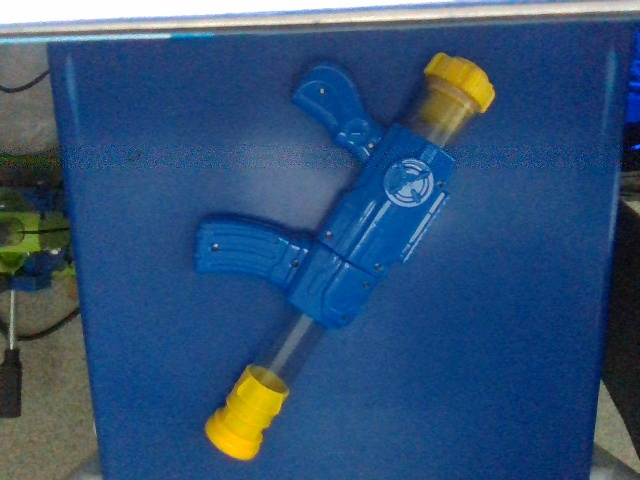screw hole: (210, 242, 220, 253), (325, 230, 334, 239), (291, 259, 299, 268), (362, 282, 372, 289), (368, 142, 376, 150), (374, 262, 382, 270), (341, 314, 349, 321), (437, 180, 445, 187), (319, 88, 326, 95)
toy: (195, 52, 496, 460)
